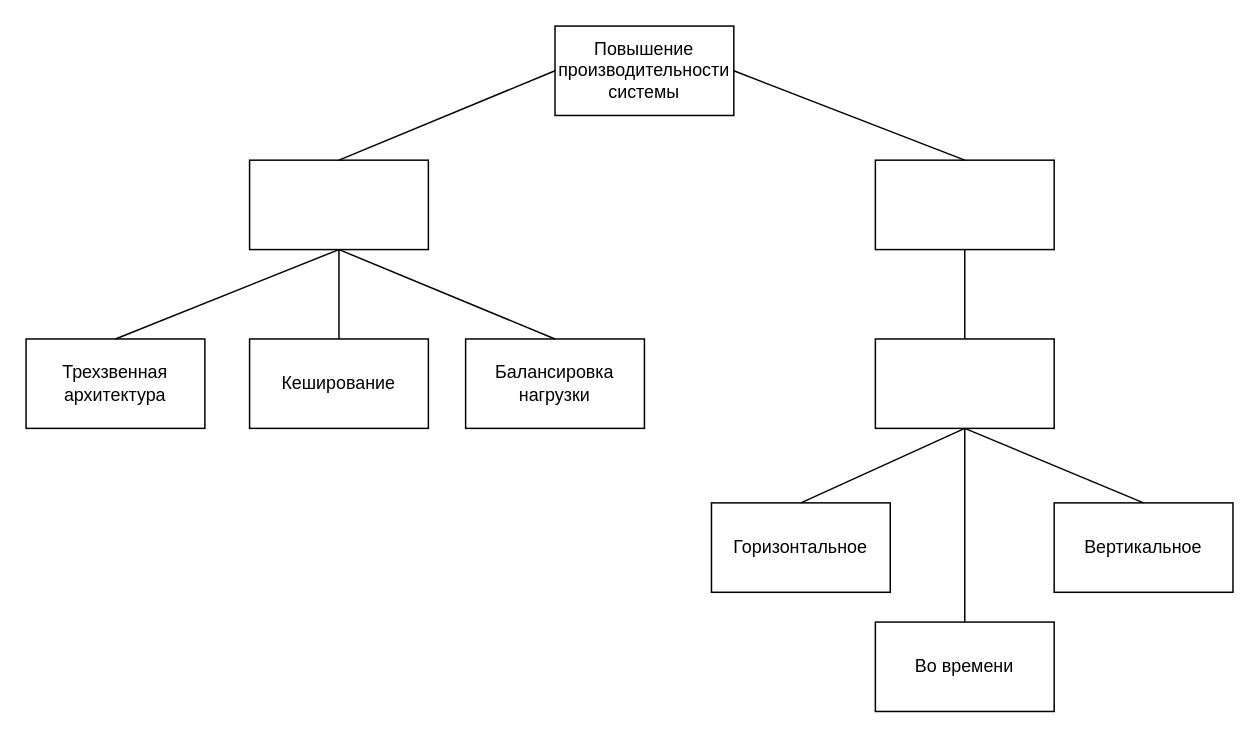
Image size: 1259x738. Some labels were removed from this diagram. Here are the shapes that lost their labels. From the top down, the centre of each, then its label:
At [338,204]: "Повышение эффективности существующих ресурсов".
At [964,204]: "Добавление новых ресурсов".
At [964,382]: "Масштабирование".
